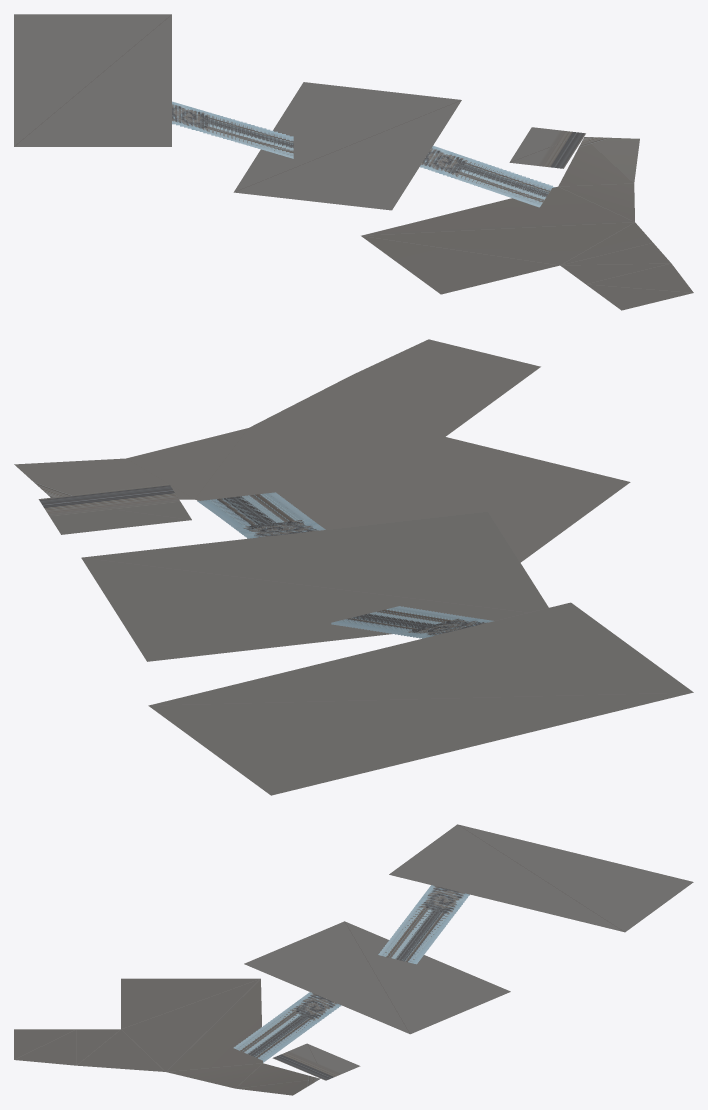
The model's file is objects_un_t08tile01.gltf.
3 renders of one model, top to bottom at view 1: azimuth 30°, elevation 25°; view 2: azimuth 150°, elevation 25°; view 3: azimuth 270°, elevation 25°, orthographic. The views are drawn at different scales.
Visible parts, largest first — view 1: nomerge_tile_shape:objects_un_t08tile01_ground, um_objects_un_t08tile01_model_lod0Shape:objects_un_t08tile01, um_objects_un_t08tile01_model_lod2Shape:objects_un_t08tile01; view 2: nomerge_tile_shape:objects_un_t08tile01_ground, um_objects_un_t08tile01_model_lod0Shape:objects_un_t08tile01, um_objects_un_t08tile01_model_lod2Shape:objects_un_t08tile01; view 3: nomerge_tile_shape:objects_un_t08tile01_ground, um_objects_un_t08tile01_model_lod0Shape:objects_un_t08tile01, um_objects_un_t08tile01_model_lod2Shape:objects_un_t08tile01.
Boxes of the visible parts, box(x1,y1,x2,y2) form: nomerge_tile_shape:objects_un_t08tile01_ground: box(14, 14, 693, 310); um_objects_un_t08tile01_model_lod0Shape:objects_un_t08tile01: box(172, 104, 555, 207); um_objects_un_t08tile01_model_lod2Shape:objects_un_t08tile01: box(172, 101, 552, 207); nomerge_tile_shape:objects_un_t08tile01_ground: box(14, 339, 693, 795); um_objects_un_t08tile01_model_lod0Shape:objects_un_t08tile01: box(197, 492, 488, 638); um_objects_un_t08tile01_model_lod2Shape:objects_un_t08tile01: box(198, 501, 493, 637); nomerge_tile_shape:objects_un_t08tile01_ground: box(14, 824, 693, 1095); um_objects_un_t08tile01_model_lod0Shape:objects_un_t08tile01: box(233, 890, 469, 1062); um_objects_un_t08tile01_model_lod2Shape:objects_un_t08tile01: box(252, 885, 469, 1062).
Size of what is drawn, in the model's own units: 120 by 13.85 by 152.
2 materials, 2 textured.
